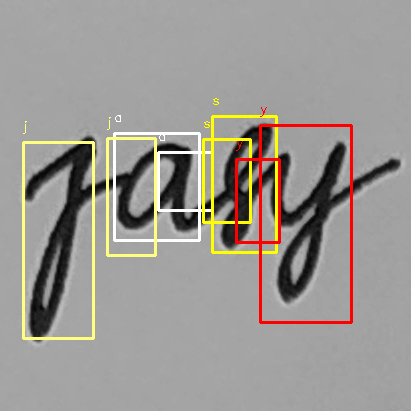a: (114, 133, 199, 242)
j: (16, 129, 103, 350)
s: (213, 119, 279, 252)
y: (266, 135, 350, 312)
